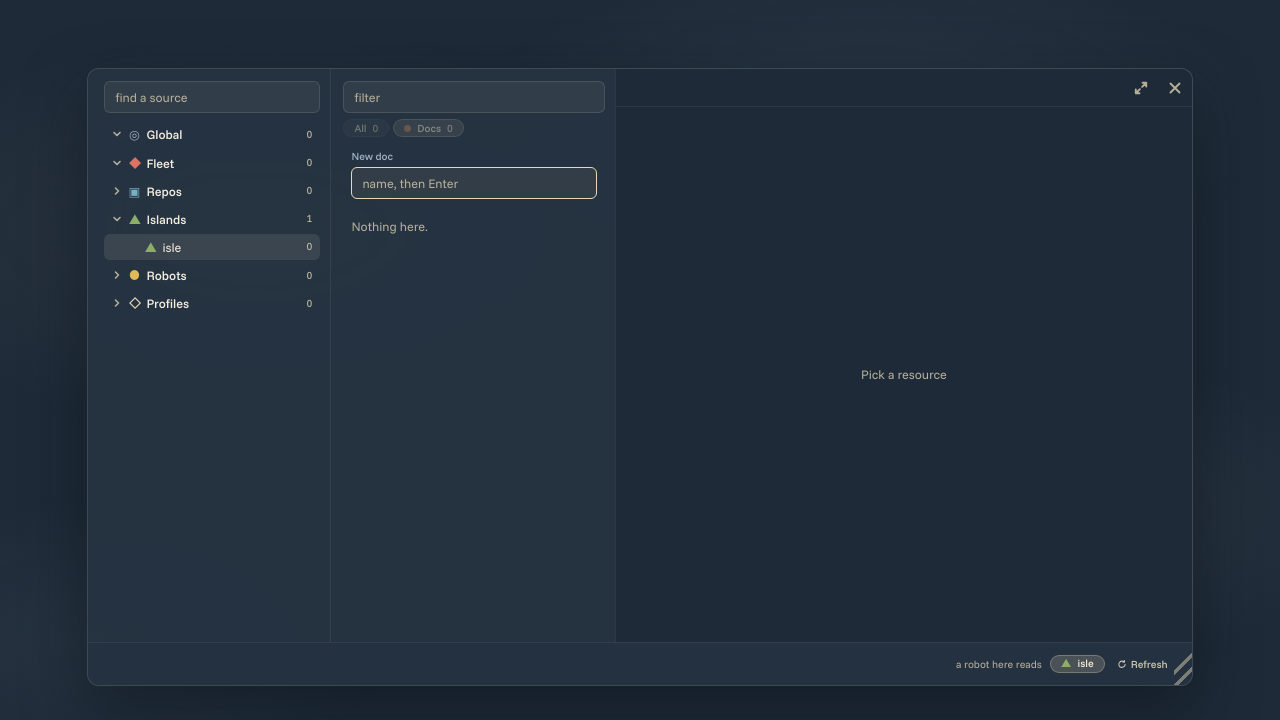
the new doc field stands until Enter or Escape, and a refused name keeps its text
Check: the text "New doc" is shown, box [351, 149, 393, 163]
Type "taken" into the field with test id "resources-new-doc-name".
click(474, 183); type("taken")  # box [351, 167, 597, 199]
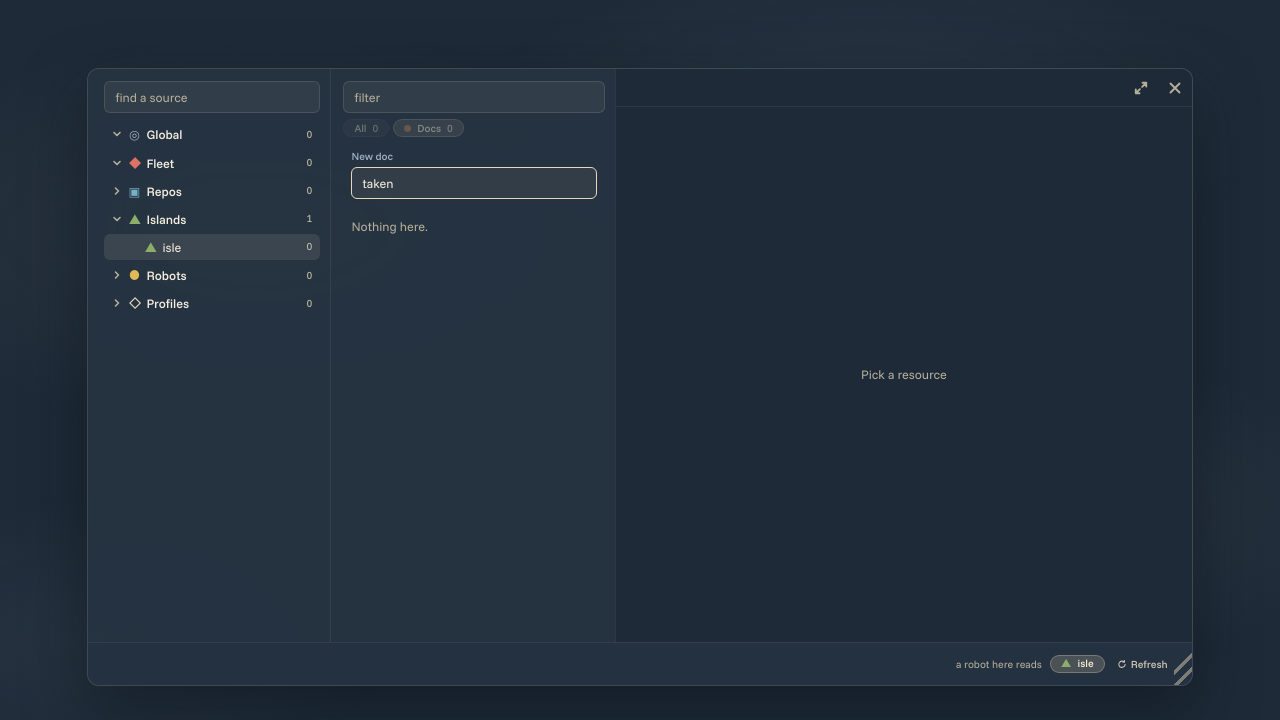
Press Enter in the field with test id "resources-new-doc-name", box [351, 167, 597, 199]
Press Escape in the field with test id "resources-new-doc-name", box [351, 167, 597, 199]
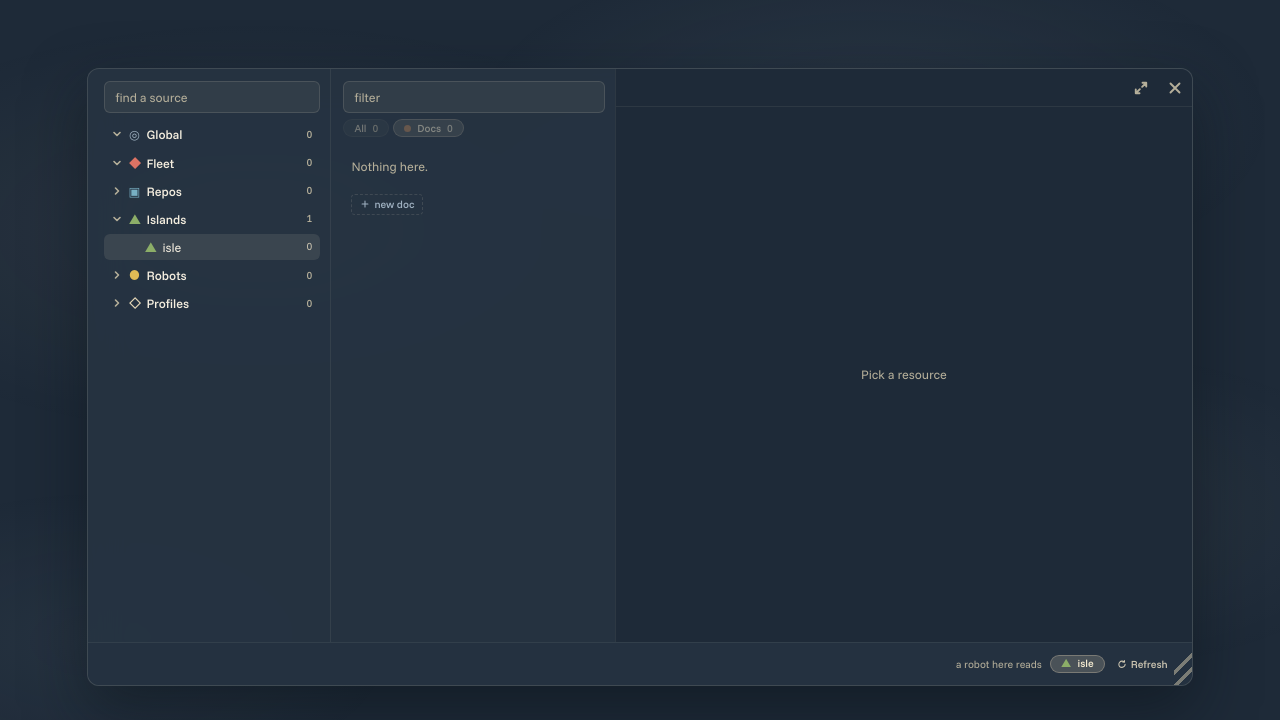
Check: the field with test id "resources-new-doc-name" is gone
